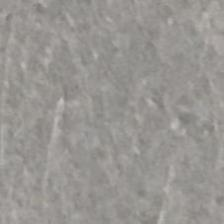Non_Crack: (3, 7, 224, 224)
